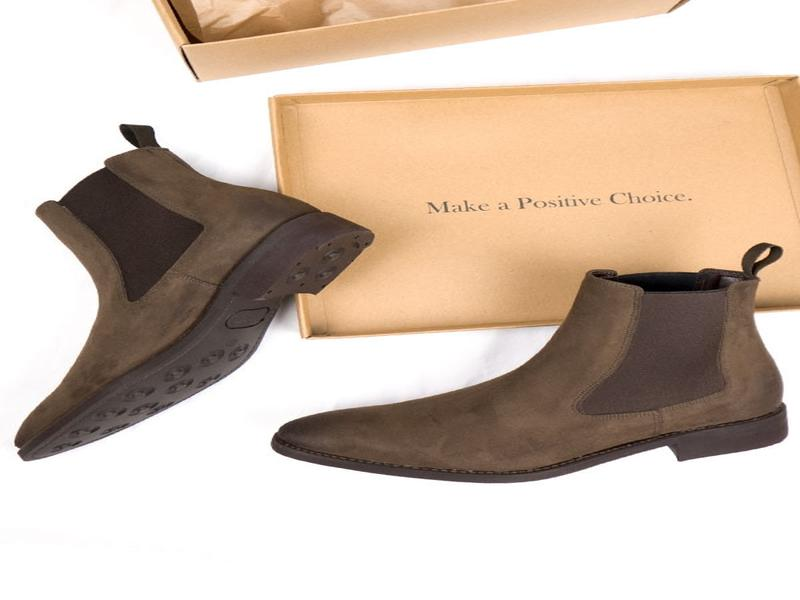shoes_men_chelsea_chelseaboots_suede_none_none_brown_none: (270, 236, 796, 477), (7, 134, 365, 466)
